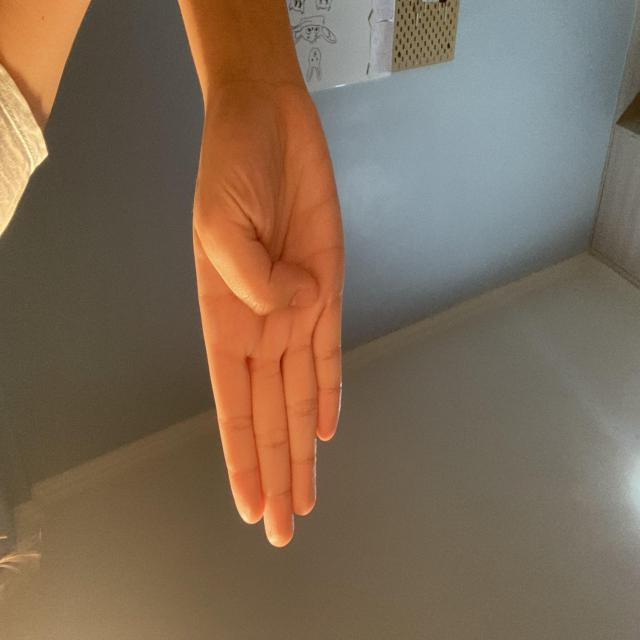B: (295, 91, 448, 558)
